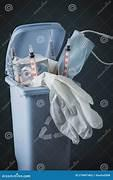Glove: (33, 72, 102, 143)
